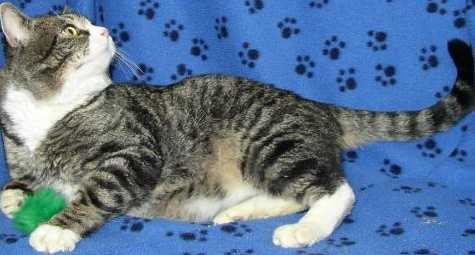Cat: (0, 3, 472, 254), (0, 2, 115, 216)
